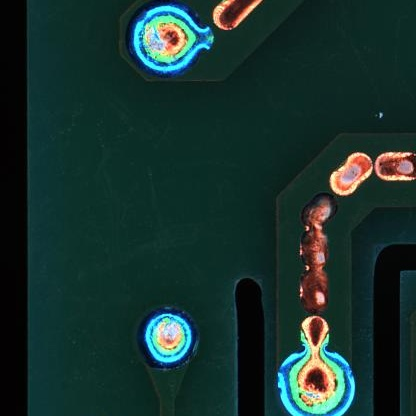spot: (130, 5, 207, 74), (279, 347, 355, 415), (138, 306, 199, 366)
